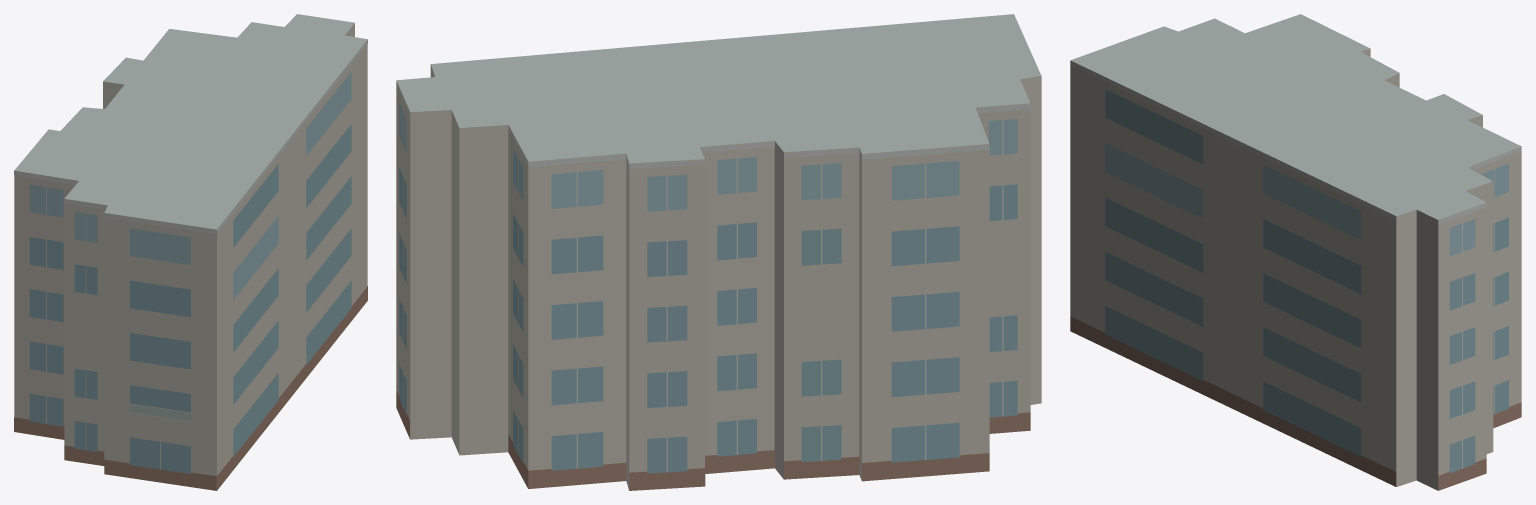
File: survey-upis-32691586.glb
3 renders of one model, left to right at view 1: azimuth 30°, elevation 25°; view 2: azimuth 150°, elevation 25°; view 3: azimuth 270°, elevation 25°, orthographic. The views are drawn at different scales.
Visible parts, largest first — view 1: survey-upis-32691586.tmp; view 2: survey-upis-32691586.tmp; view 3: survey-upis-32691586.tmp.
Part boxes in pixels (box(x1,y1,x2,y2)): survey-upis-32691586.tmp: box(14, 14, 367, 490); survey-upis-32691586.tmp: box(396, 14, 1041, 490); survey-upis-32691586.tmp: box(1070, 14, 1521, 490).
Bounding box in the file's own units: 22.51 × 13.8 × 20.84.
